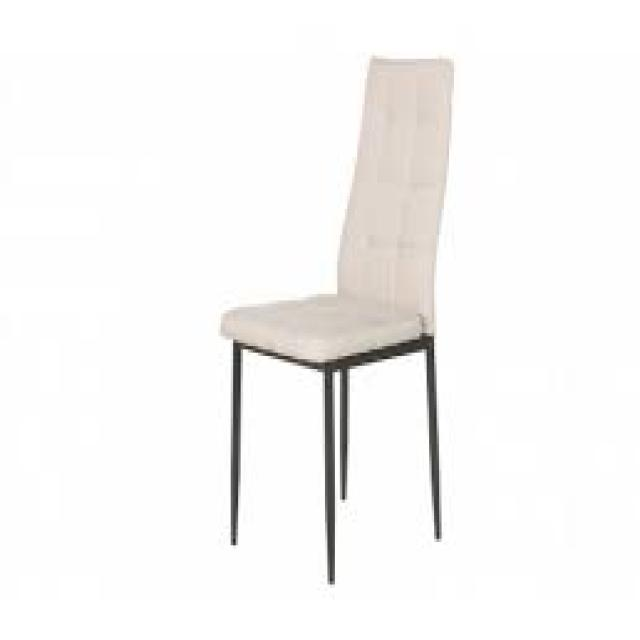bottle: (223, 55, 458, 579)
